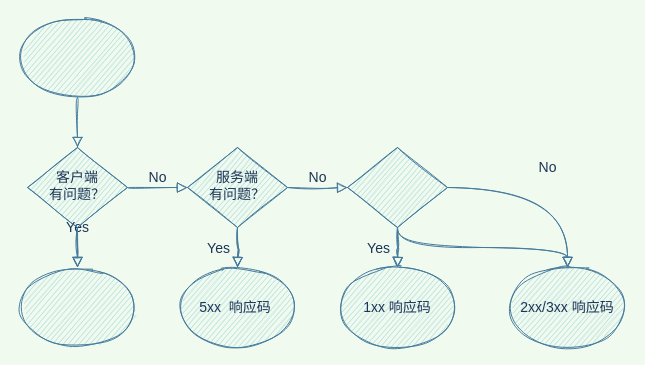
This 645x365 diagram has some shape labels left out. The shapes that lost their labels are listed below. From the top down, each one's centre as x and y in pixels, then its label:
At [77,57]: "哪一种响应类型？".
At [397,187]: "服务端正 常返回？".
At [77,307]: "4xx 响应码".
